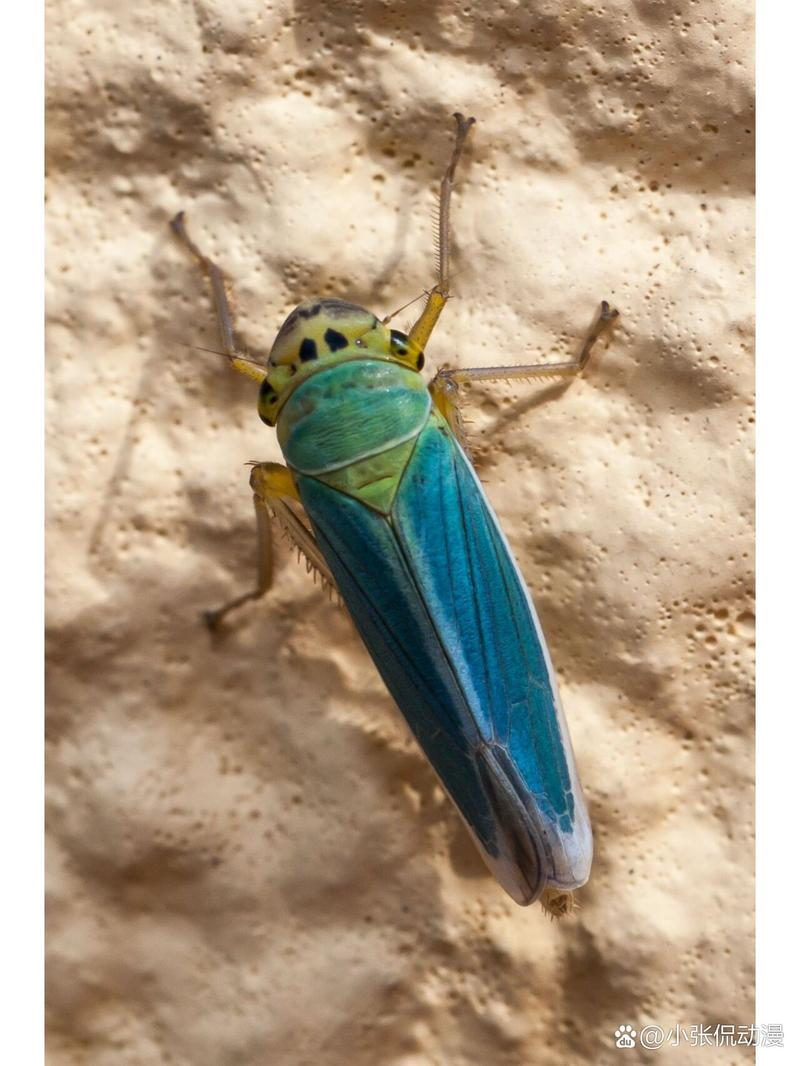Cicadellidae: (169, 111, 621, 923)
